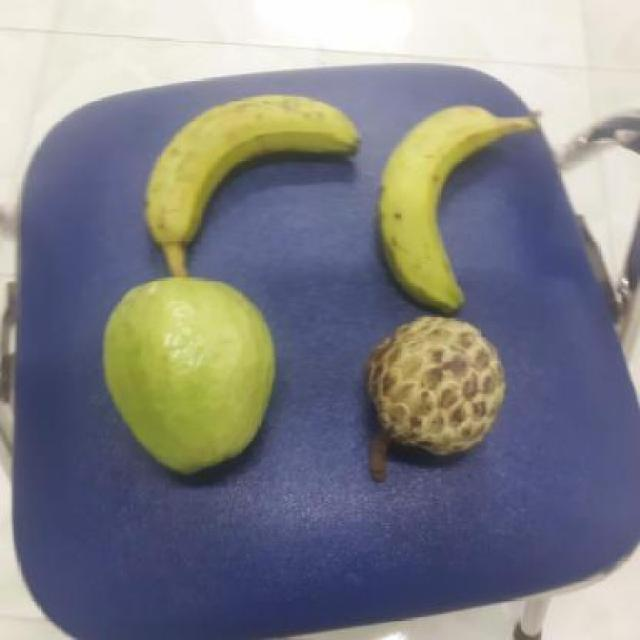banana: (134, 94, 361, 254), (378, 96, 538, 316)
guava: (95, 268, 282, 480)
sugar apple: (364, 310, 508, 458)
